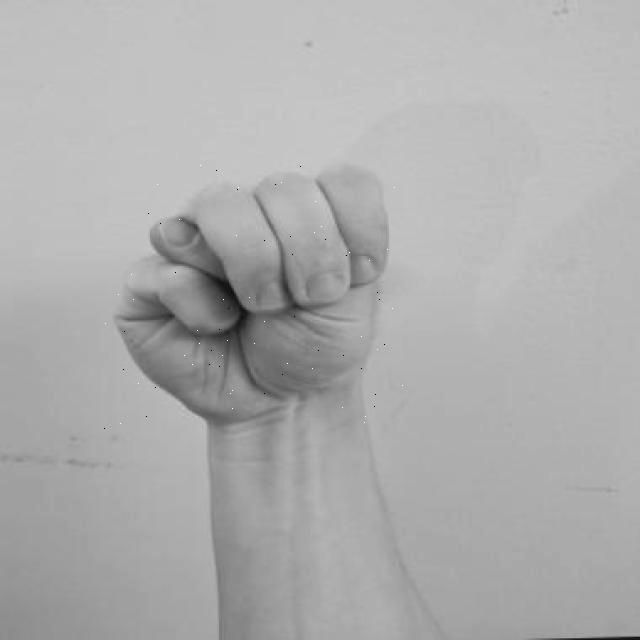M: (104, 159, 404, 432)
